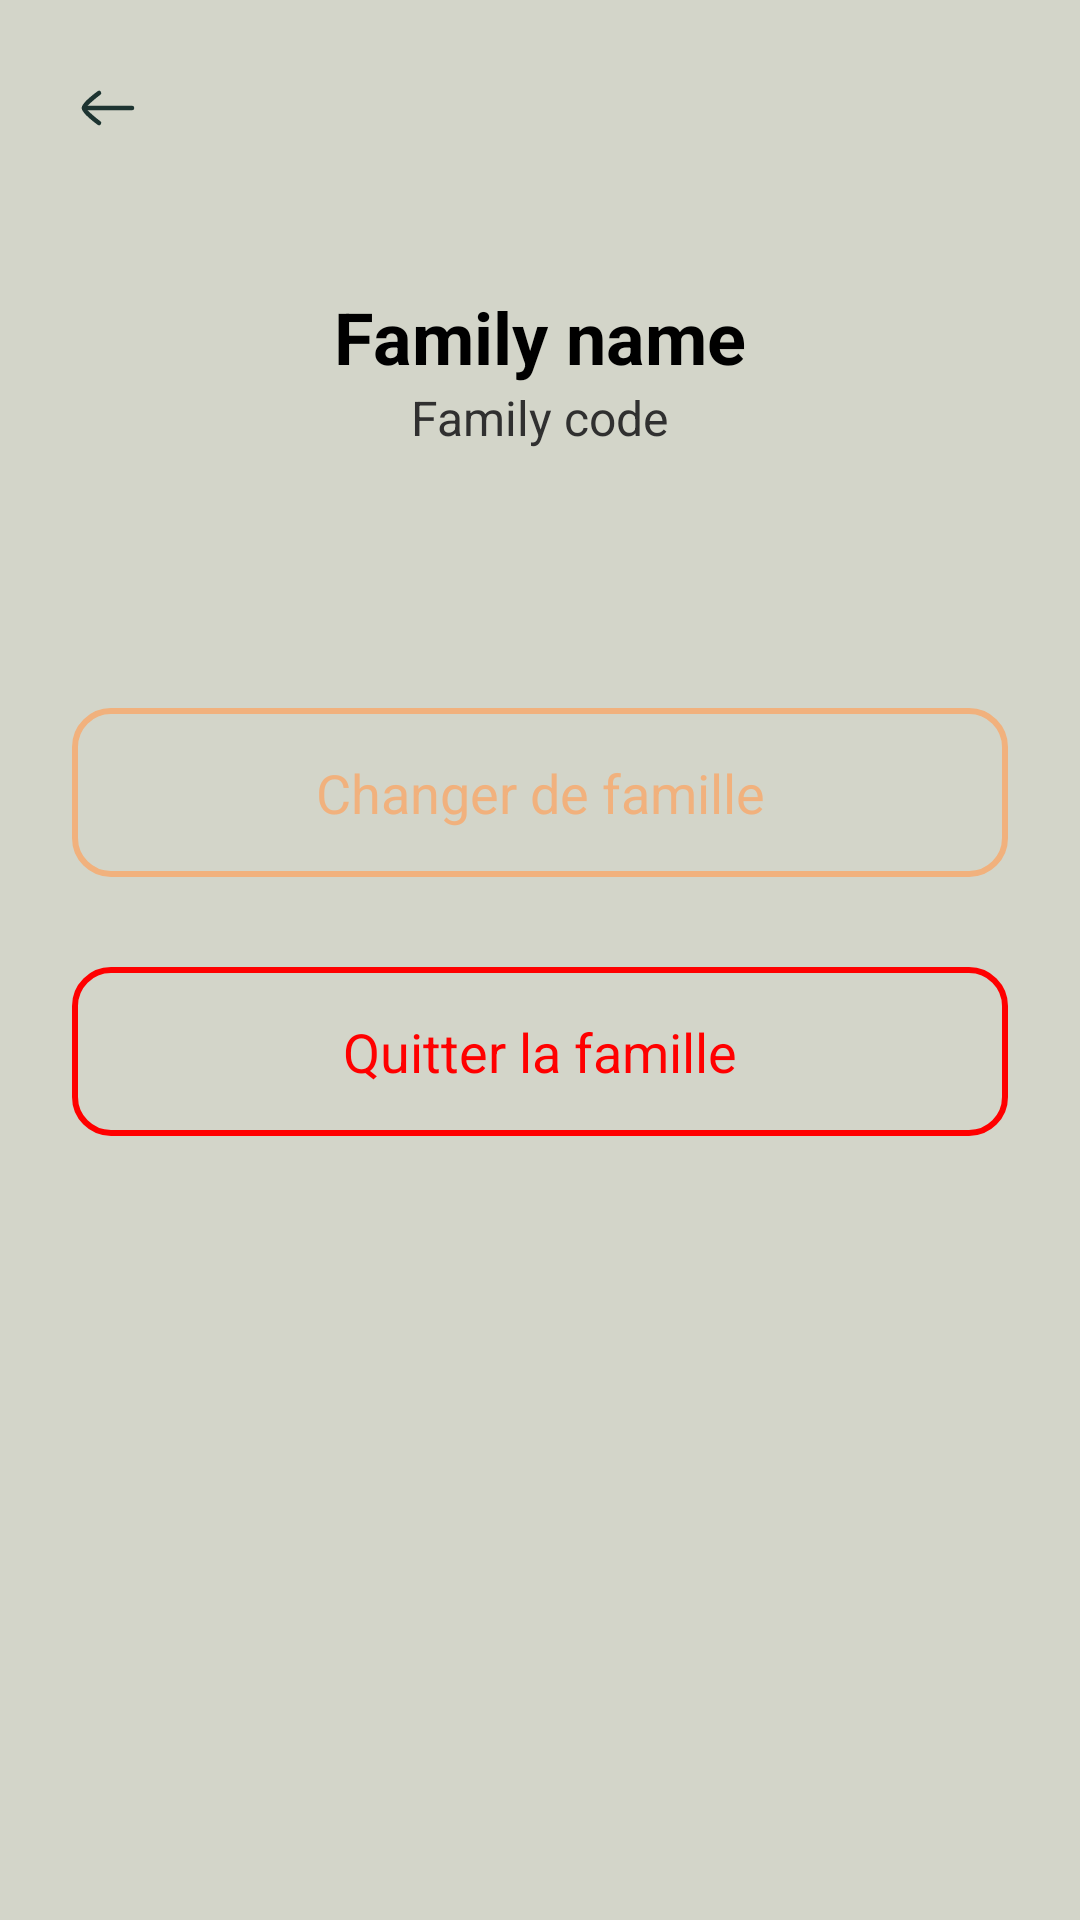

Locate icon controls on the screen. Image size 1080 × 1920, boxes as (x1, y1, x2, y2).
back: (81, 90, 134, 126)
